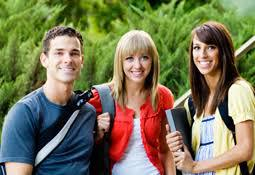Person: (11, 31, 98, 175), (177, 22, 255, 175), (97, 31, 170, 175)
